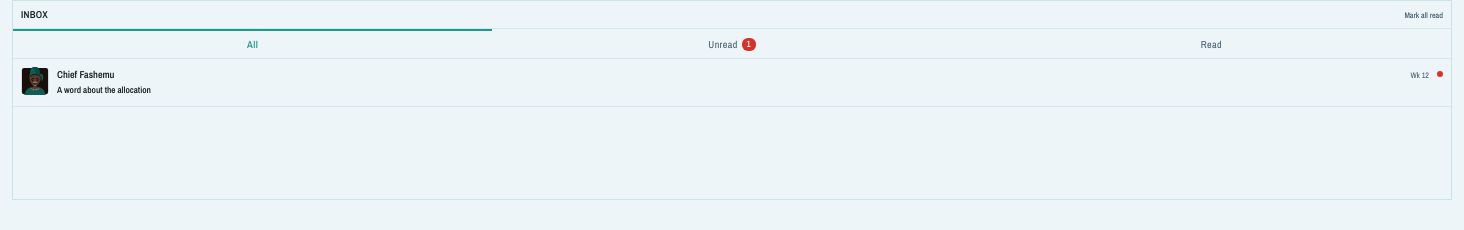
it: Inbox › renders a message row and opens detail on click
The image size is (1464, 230).
expect the text "Chief Fashemu" is shown: met, box [57,67,114,82]
Click the text "A word about the allocation": (104, 90) [57,84,151,96]
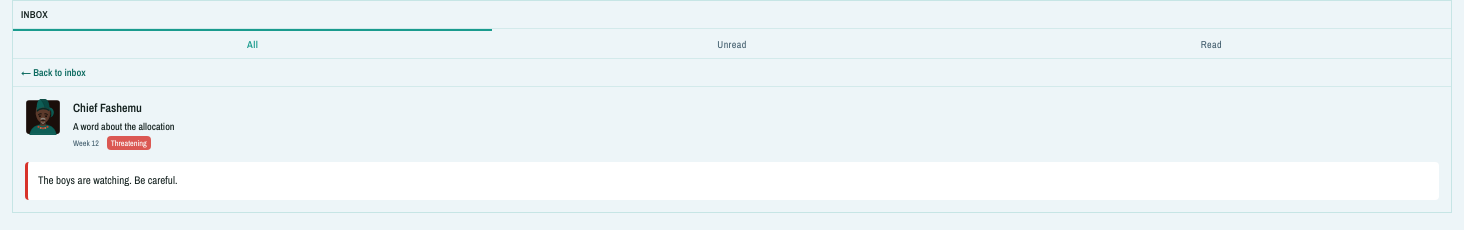
expect the button "← Back to inbox" is shown: met, box [13,59,1451,87]
expect the text "The boys are watching. Be careful." is shown: met, box [25,162,1439,200]
